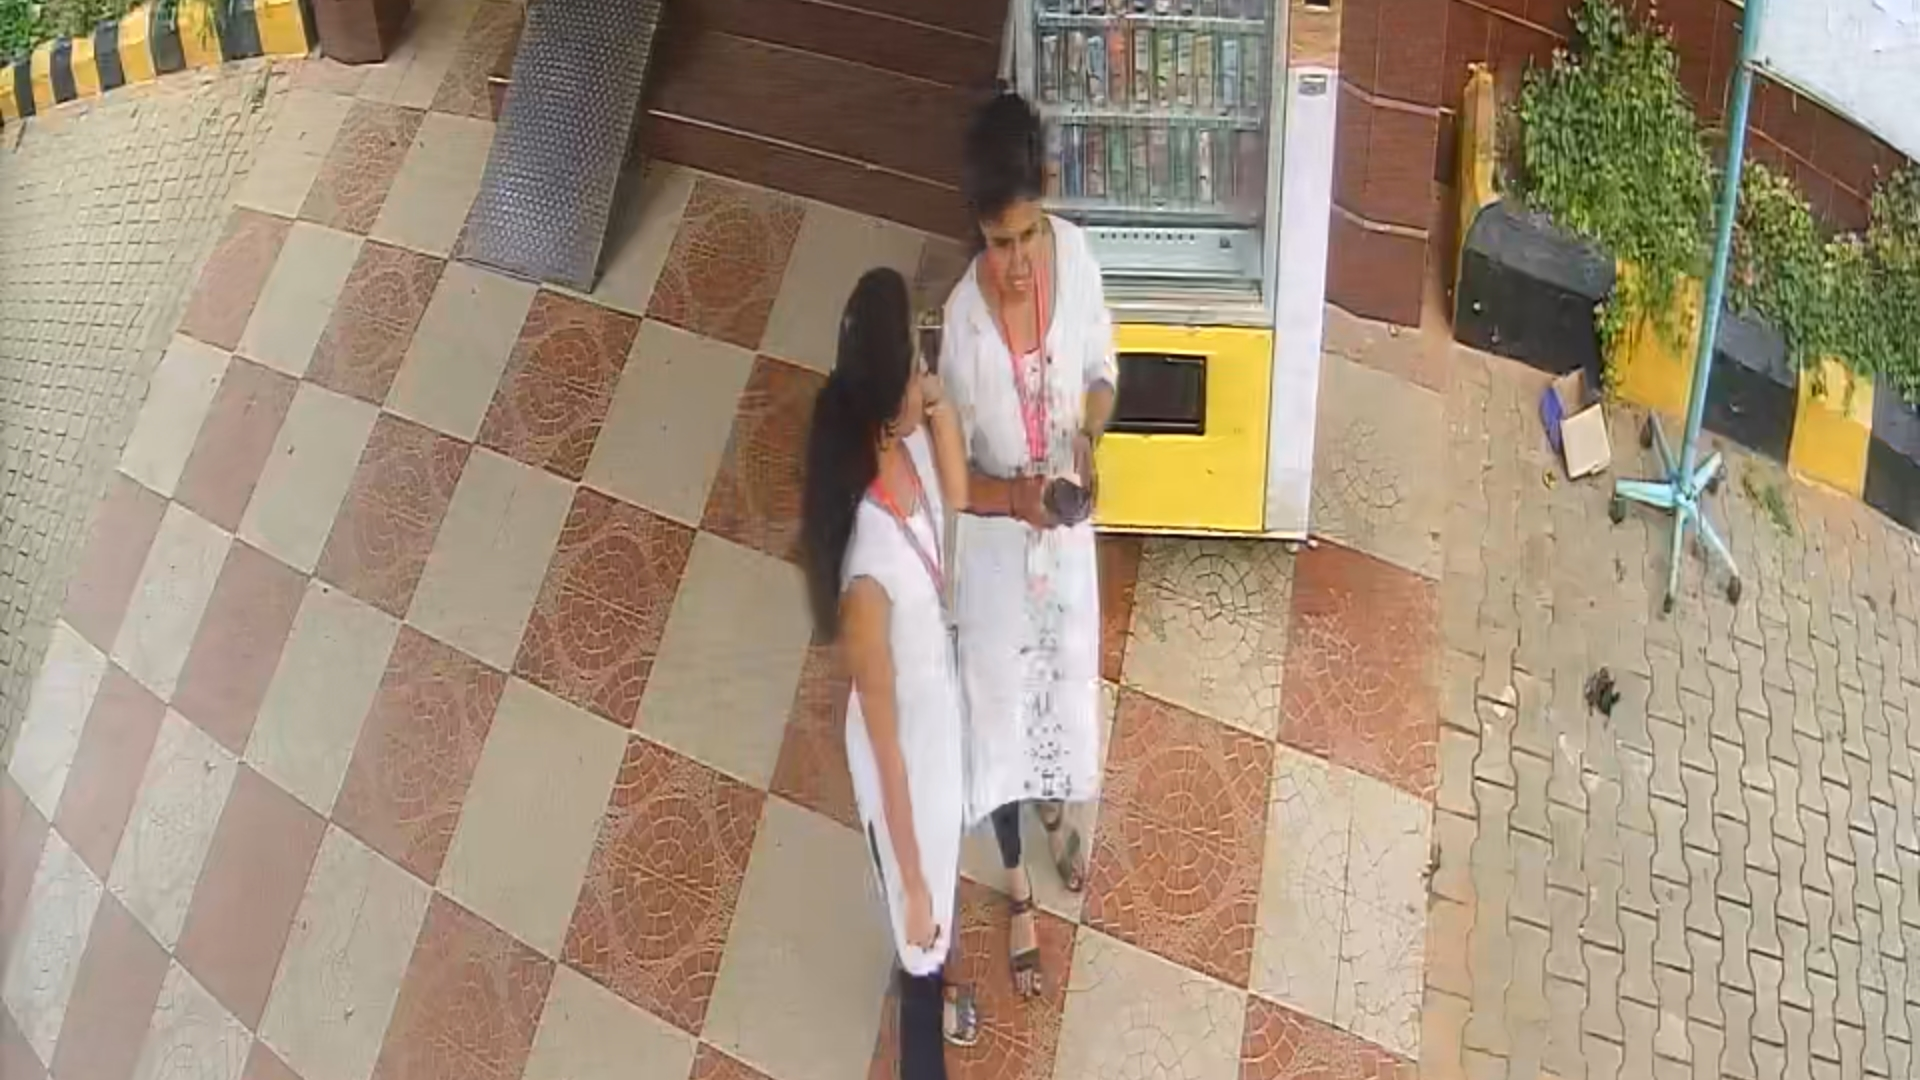not intruder: (945, 86, 1112, 998), (815, 247, 975, 1080)
